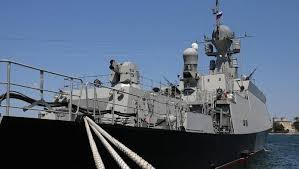tau_muctieu: (3, 30, 278, 169)
